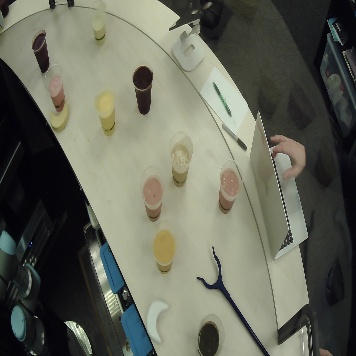full_cup: (190, 309, 229, 356), (138, 164, 166, 220), (166, 130, 194, 186), (216, 159, 243, 213), (151, 222, 178, 274), (130, 64, 153, 115), (93, 87, 117, 135), (43, 64, 65, 111), (86, 1, 107, 46), (30, 29, 50, 74)
puck: (145, 297, 169, 344), (49, 104, 70, 133)
